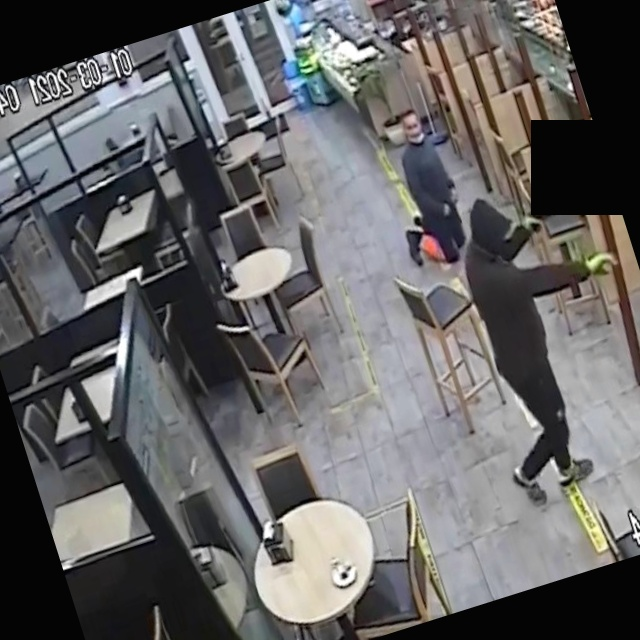gun: (510, 175, 578, 250)
